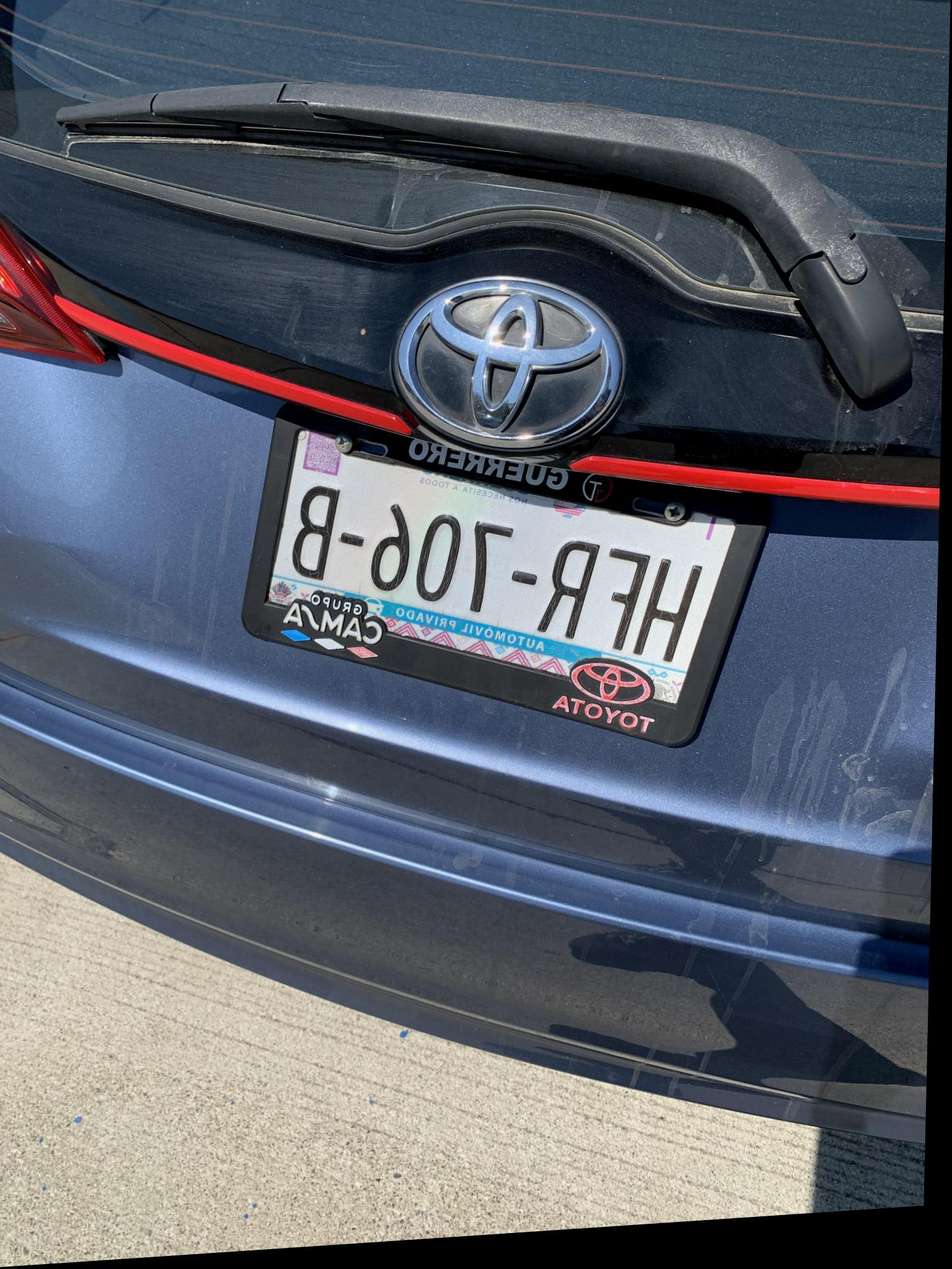License_Plate: (219, 371, 805, 752)
